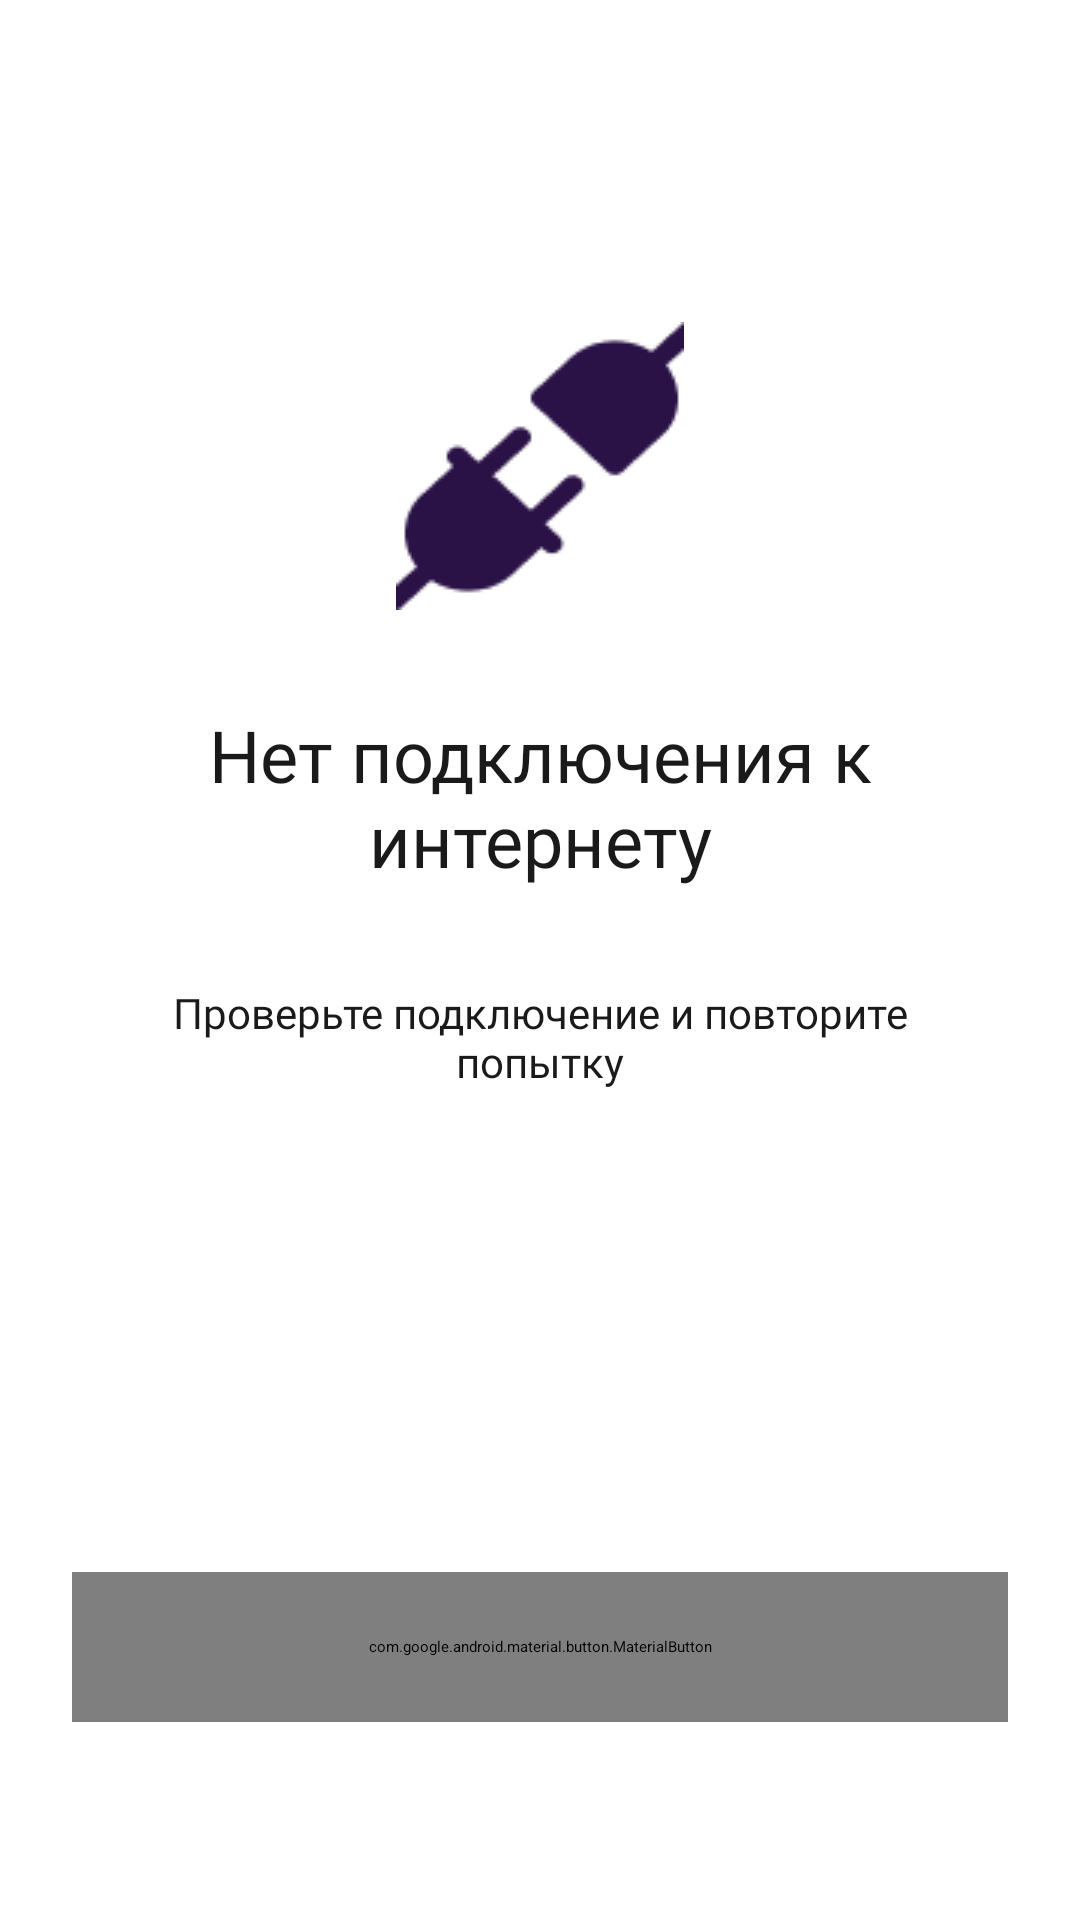

Where icons sit on this 1080 x 1920 app screen, as detection(x1, y1, x2, y2):
no connection: detection(396, 322, 684, 610)
